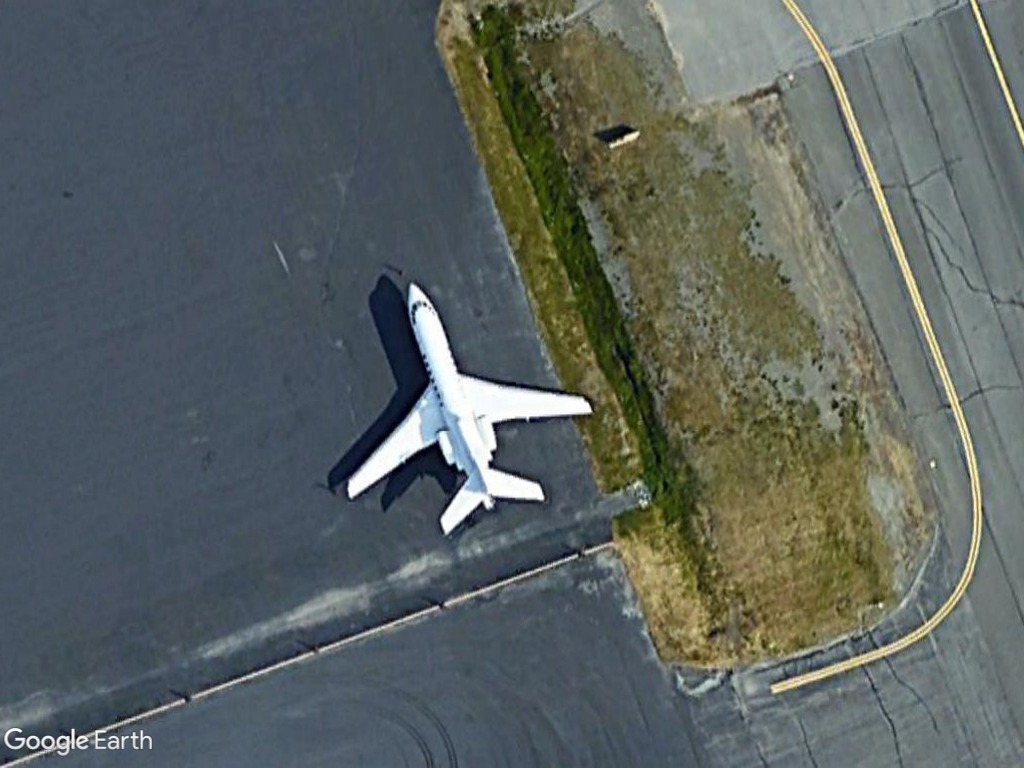chartered: (335, 277, 598, 537)
